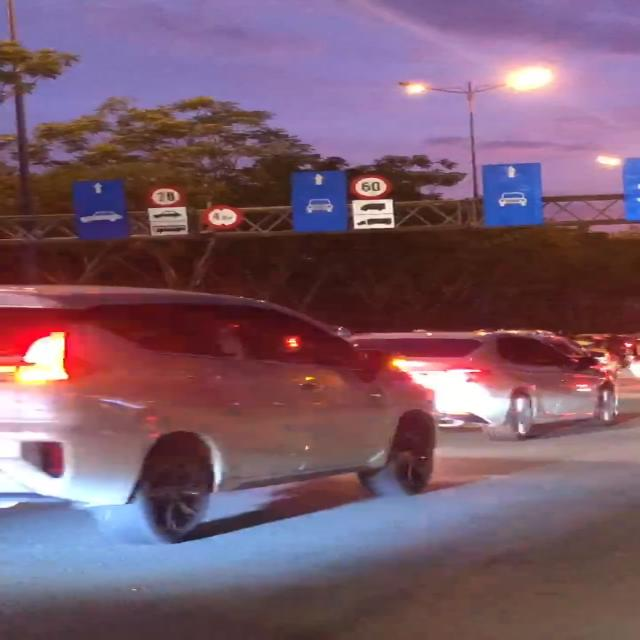Bien bao han che chieu cao: (201, 203, 242, 230)
Bien bao toc do toi da cho phep: (347, 174, 391, 199), (146, 185, 193, 208)
